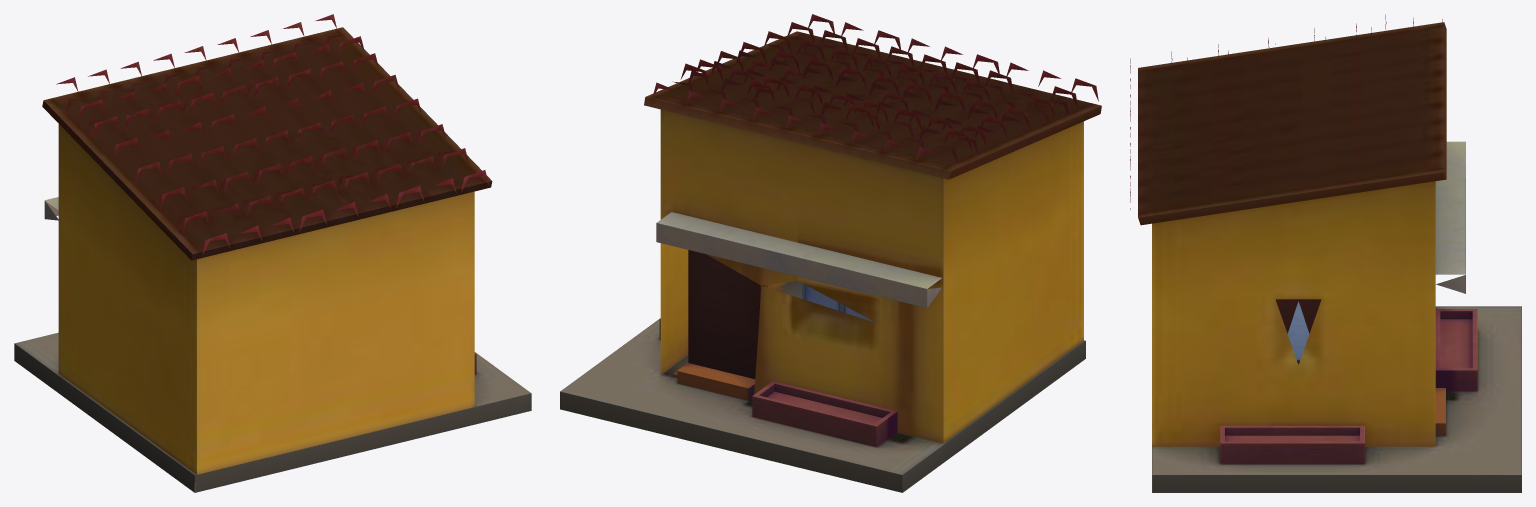
File: casa-teja.glb
3 renders of one model, left to right at view 1: azimuth 30°, elevation 25°; view 2: azimuth 150°, elevation 25°; view 3: azimuth 270°, elevation 25°, orthographic. The views are drawn at different scales.
Visible parts, largest first — view 1: Paredes, Base techo, Piso, Techo; view 2: Paredes, Base techo, Piso, Techo, Muros Entrada, Puerta, macetas, Escalon; view 3: Paredes, Base techo, Piso, macetas, Muros Entrada, Ventana, Techo, Escalon.
Part boxes in pixels (bbox=[...]): Paredes: bbox=[58, 124, 474, 474]; Base techo: bbox=[42, 27, 492, 260]; Piso: bbox=[14, 332, 531, 492]; Techo: bbox=[56, 14, 489, 254]; Paredes: bbox=[660, 109, 1083, 442]; Base techo: bbox=[644, 31, 1101, 179]; Piso: bbox=[560, 280, 1085, 492]; Techo: bbox=[652, 14, 1098, 162]; Muros Entrada: bbox=[656, 212, 941, 307]; Puerta: bbox=[688, 250, 764, 378]; macetas: bbox=[659, 285, 897, 447]; Escalon: bbox=[677, 363, 755, 400]; Paredes: bbox=[1152, 181, 1435, 446]; Base techo: bbox=[1138, 22, 1446, 225]; Piso: bbox=[1152, 306, 1521, 492]; macetas: bbox=[1220, 309, 1477, 464]; Muros Entrada: bbox=[1435, 141, 1465, 293]; Ventana: bbox=[1275, 299, 1321, 363]; Techo: bbox=[1130, 14, 1443, 209]; Escalon: bbox=[1435, 388, 1445, 435].
Bounding box in the file's own units: 5.95 × 5.05 × 5.7.
10 materials, 9 textured.
